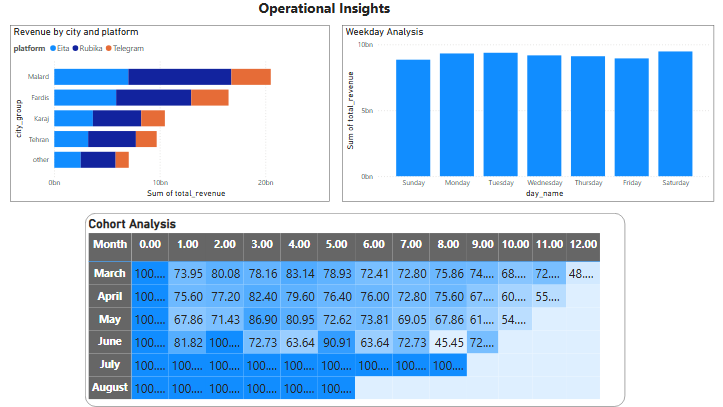

What the dashboard file says about the page in this screenshot:
{"tool":"powerbi","page":{"name":"Page 4","canvas":[1280,720],"ordinal":3},"visuals":[{"type":"barChart","title":"Revenue by city and platform","fields":{"Category":["public city_platform_analysis.city_group"],"Y":["Sum(public city_platform_analysis.total_revenue)"],"Series":["public city_platform_analysis.platform"]},"box":[21.3,51.8,557.7,307.8],"z":0},{"type":"clusteredColumnChart","title":"Weekday Analysis","fields":{"Category":["public weekday_analysis.day_name"],"Y":["Sum(public weekday_analysis.total_revenue)"]},"box":[600.4,51.8,649.1,307.8],"z":1000},{"type":"pivotTable","title":"Cohort Analysis","fields":{"Rows":["public cohort_analysis.cohort_month.Variation.Date Hierarchy.Month"],"Columns":["public cohort_analysis.month_number"],"Values":["Sum(public cohort_analysis.retention_rate)"]},"box":[152.4,381,941.7,338.3],"z":2000},{"type":"textbox","box":[3,0,1130.7,51.8],"z":3000}]}

Visuals, with their boxes in screenshot pixels (x1, y1, x2, y2), scaled from the page's 1280x720 canvas onto the 723x407 screenshot:
"Revenue by city and platform" barChart: 12:29:327:203
"Weekday Analysis" clusteredColumnChart: 339:29:706:203
"Cohort Analysis" pivotTable: 86:215:618:406
textbox: 2:0:640:29
